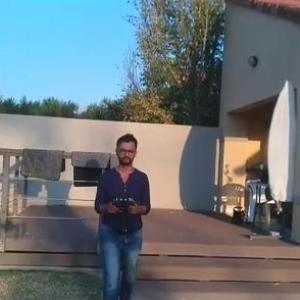follow: (88, 123, 156, 299)
